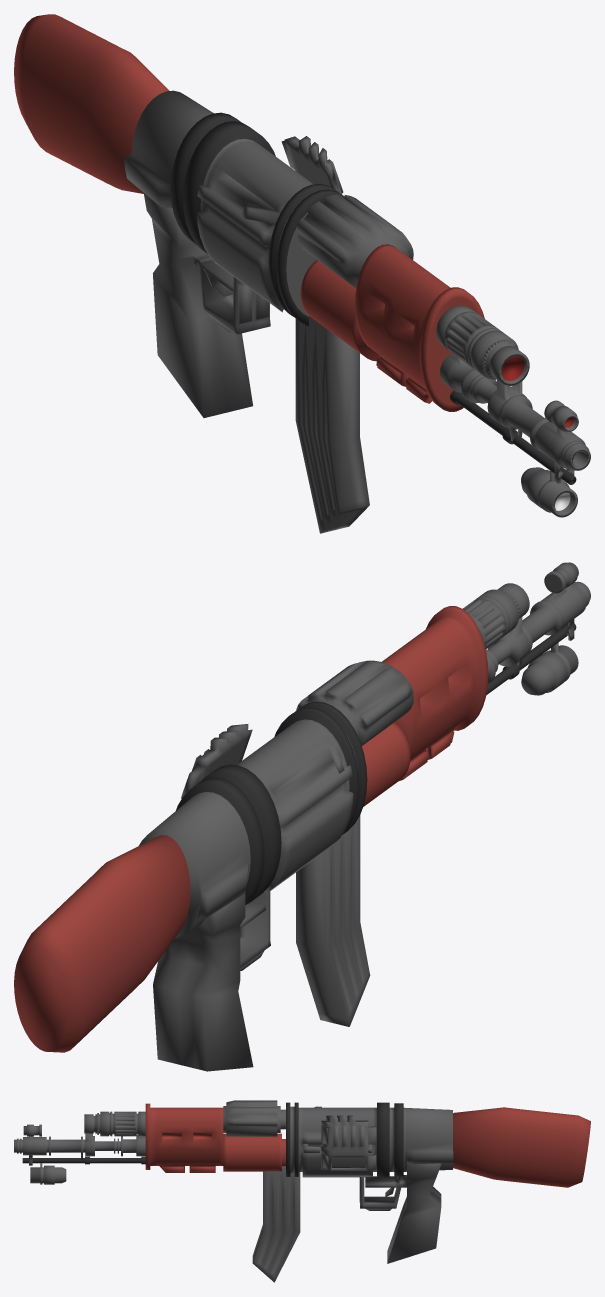
Rendered from AK-47_Aksesoris_Depan2.fbx.
3 views of the same model, one above another, from view 1: azimuth 30°, elevation 25°; view 2: azimuth 150°, elevation 25°; view 3: azimuth 270°, elevation 25° (orthographic). The views are drawn at different scales.
Visible parts, largest first — view 1: Objek AK47 9, Objek AK47 11, Objek AK47 10, Objek AK47 12, Objek AK47 6, Objek AK47 7, Objek AK47 2, Objek AK47 1, Objek AK47 5, Cylinder.002, Objek AK47 3, Objek AK47 4; view 2: Objek AK47 9, Objek AK47 11, Objek AK47 10, Objek AK47 12, Objek AK47 6, Objek AK47 7, Objek AK47 2, Objek AK47 5, Objek AK47 1, Cylinder.002, Objek AK47 3, Objek AK47 4; view 3: Objek AK47 9, Objek AK47 11, Objek AK47 6, Objek AK47 10, Objek AK47 12, Objek AK47 5, Objek AK47 7, Objek AK47 2, Objek AK47 1, Objek AK47 3, Cylinder.002.
Part boxes in pixels (x1=…): Objek AK47 9: x1=124, y1=90, x2=344, y2=326; Objek AK47 11: x1=14, y1=14, x2=169, y2=193; Objek AK47 10: x1=143, y1=193, x2=270, y2=417; Objek AK47 12: x1=295, y1=316, x2=369, y2=533; Objek AK47 6: x1=355, y1=244, x2=484, y2=411; Objek AK47 7: x1=296, y1=194, x2=413, y2=287; Objek AK47 2: x1=440, y1=353, x2=590, y2=483; Objek AK47 1: x1=436, y1=305, x2=529, y2=385; Objek AK47 5: x1=300, y1=260, x2=379, y2=361; Cylinder.002: x1=521, y1=467, x2=577, y2=517; Objek AK47 3: x1=450, y1=390, x2=576, y2=484; Objek AK47 4: x1=544, y1=400, x2=578, y2=431; Objek AK47 9: x1=139, y1=701, x2=367, y2=938; Objek AK47 11: x1=14, y1=835, x2=190, y2=1052; Objek AK47 10: x1=153, y1=890, x2=270, y2=1071; Objek AK47 12: x1=296, y1=815, x2=370, y2=1026; Objek AK47 6: x1=382, y1=606, x2=488, y2=780; Objek AK47 7: x1=296, y1=660, x2=413, y2=745; Objek AK47 2: x1=486, y1=581, x2=590, y2=683; Objek AK47 5: x1=362, y1=722, x2=410, y2=806; Objek AK47 1: x1=463, y1=583, x2=529, y2=649; Cylinder.002: x1=521, y1=642, x2=578, y2=695; Objek AK47 3: x1=486, y1=623, x2=576, y2=694; Objek AK47 4: x1=544, y1=562, x2=578, y2=593; Objek AK47 9: x1=286, y1=1102, x2=453, y2=1177; Objek AK47 11: x1=453, y1=1107, x2=590, y2=1187; Objek AK47 6: x1=145, y1=1103, x2=223, y2=1172; Objek AK47 10: x1=359, y1=1161, x2=441, y2=1263; Objek AK47 12: x1=252, y1=1166, x2=300, y2=1282; Objek AK47 5: x1=223, y1=1133, x2=285, y2=1171; Objek AK47 7: x1=223, y1=1100, x2=285, y2=1136; Objek AK47 2: x1=14, y1=1133, x2=145, y2=1165; Objek AK47 1: x1=84, y1=1111, x2=145, y2=1136; Objek AK47 3: x1=22, y1=1156, x2=145, y2=1164; Cylinder.002: x1=30, y1=1163, x2=66, y2=1184.
Bounding box in the file's own units: 76.41 × 213 × 632.
